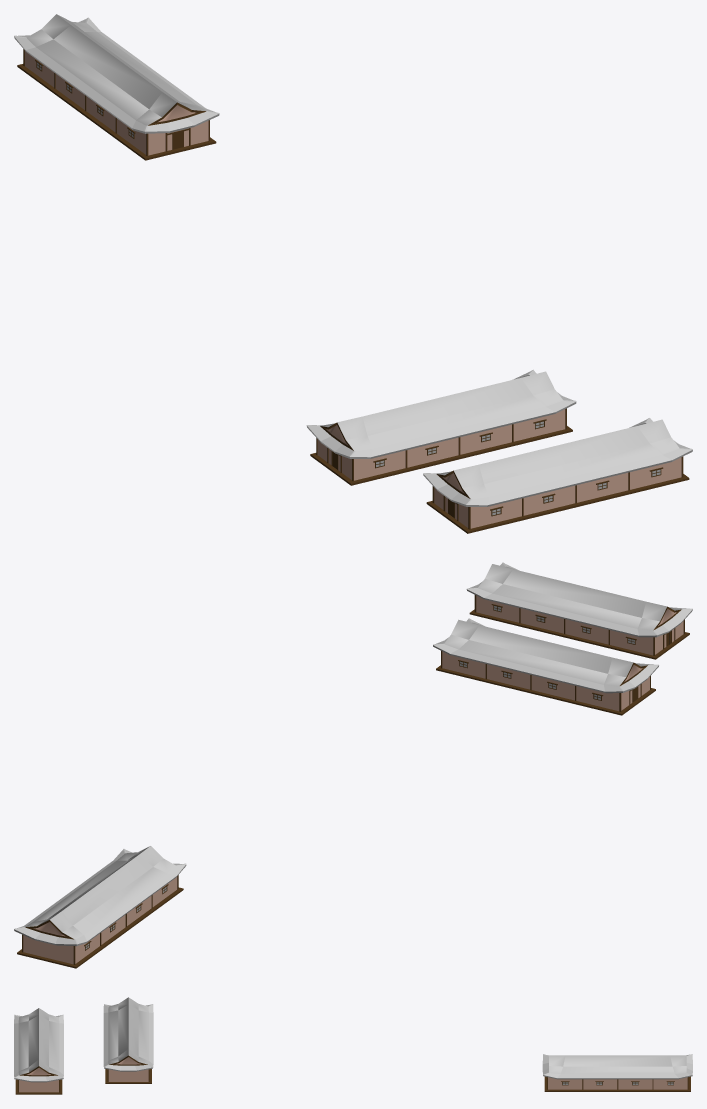
Rendered from Buildings_Set_02.fbx.
3 views of the same model, one above another, from view 1: azimuth 30°, elevation 25°; view 2: azimuth 150°, elevation 25°; view 3: azimuth 270°, elevation 25° (orthographic). The views are drawn at different scales.
Visible parts, largest first — view 1: Cube.039; view 2: Cube.039; view 3: Cube.039.
Part boxes in pixels (x1,y1,x2,y2): Cube.039: (14, 14, 692, 533); Cube.039: (14, 562, 692, 968); Cube.039: (14, 997, 692, 1094).
Size of the model in its own units: 11.28 by 1.9 by 43.67.
